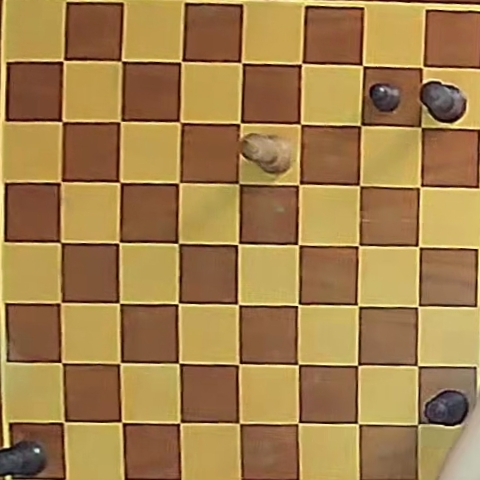black-king: (420, 81, 466, 123)
black-pawn: (369, 83, 401, 111)
black-queen: (0, 439, 48, 478), (424, 389, 469, 427)
white-king: (241, 133, 292, 173)
